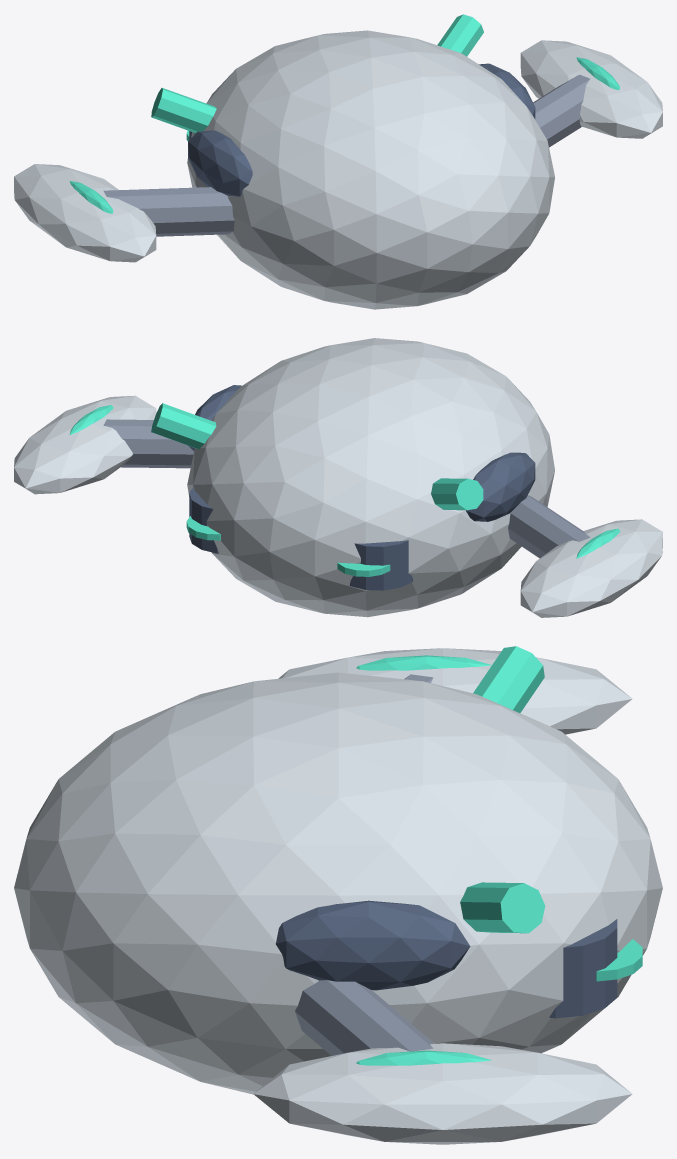
The model's file is npc_bossSibelon.glb.
3 renders of one model, top to bottom at view 1: azimuth 30°, elevation 25°; view 2: azimuth 150°, elevation 25°; view 3: azimuth 270°, elevation 25°, orthographic. The views are drawn at different scales.
Visible parts, largest first — view 1: hull, wing_armor_-1, wing_armor_1, wingframe_-1, shield_pod_-1, wingframe_1, boss_blade_-1, boss_blade_1, shield_pod_1, wing_energy_-1, wing_energy_1; view 2: hull, wing_armor_-1, wing_armor_1, shield_pod_-1, wingframe_-1, wingframe_1, engine_-1, boss_blade_1, boss_blade_-1, engine_1, shield_pod_1, engine_light_-1 (+3 smaller); view 3: hull, wing_armor_1, shield_pod_1, wing_armor_-1, wingframe_1, engine_1, boss_blade_1, boss_blade_-1, wing_energy_1, wing_energy_-1, engine_light_1.
Part boxes in pixels (x1,y1,x2,y2): hull: [187, 30, 554, 309]; wing_armor_-1: [14, 164, 156, 262]; wing_armor_1: [520, 40, 662, 138]; wingframe_-1: [103, 187, 234, 236]; shield_pod_-1: [188, 130, 252, 196]; wingframe_1: [533, 74, 590, 147]; boss_blade_-1: [151, 88, 216, 133]; boss_blade_1: [437, 14, 483, 56]; shield_pod_1: [479, 63, 535, 118]; wing_energy_-1: [69, 181, 113, 213]; wing_energy_1: [576, 57, 620, 89]; hull: [187, 338, 554, 617]; wing_armor_-1: [520, 519, 662, 617]; wing_armor_1: [14, 395, 156, 494]; shield_pod_-1: [466, 452, 535, 521]; wingframe_-1: [508, 495, 590, 558]; wingframe_1: [103, 419, 193, 468]; engine_-1: [349, 540, 413, 590]; boss_blade_1: [151, 403, 216, 449]; boss_blade_-1: [431, 478, 483, 510]; engine_1: [189, 488, 218, 553]; shield_pod_1: [188, 385, 241, 450]; engine_light_-1: [337, 562, 390, 576]; hull: [14, 672, 662, 1094]; wing_armor_1: [253, 1043, 632, 1144]; shield_pod_1: [275, 900, 470, 990]; wing_armor_-1: [278, 648, 632, 734]; wingframe_1: [295, 980, 433, 1055]; engine_1: [549, 919, 617, 1018]; boss_blade_1: [460, 882, 545, 933]; boss_blade_-1: [473, 646, 544, 712]; wing_energy_1: [356, 1050, 491, 1065]; wing_energy_-1: [356, 655, 491, 670]; engine_light_1: [596, 939, 642, 981].
Size of the model in its own units: 4.74 by 1.7 by 2.78.
